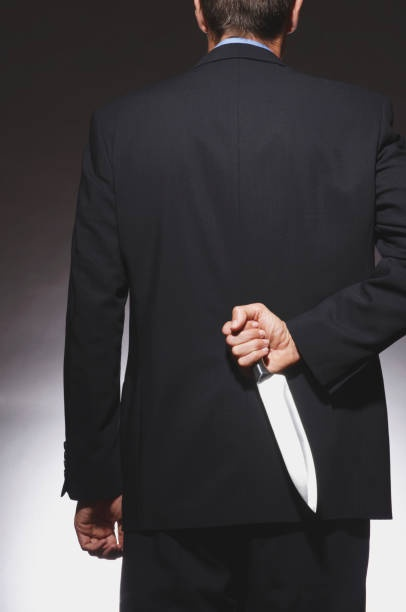knife: (220, 303, 321, 518)
person: (61, 5, 406, 612)
